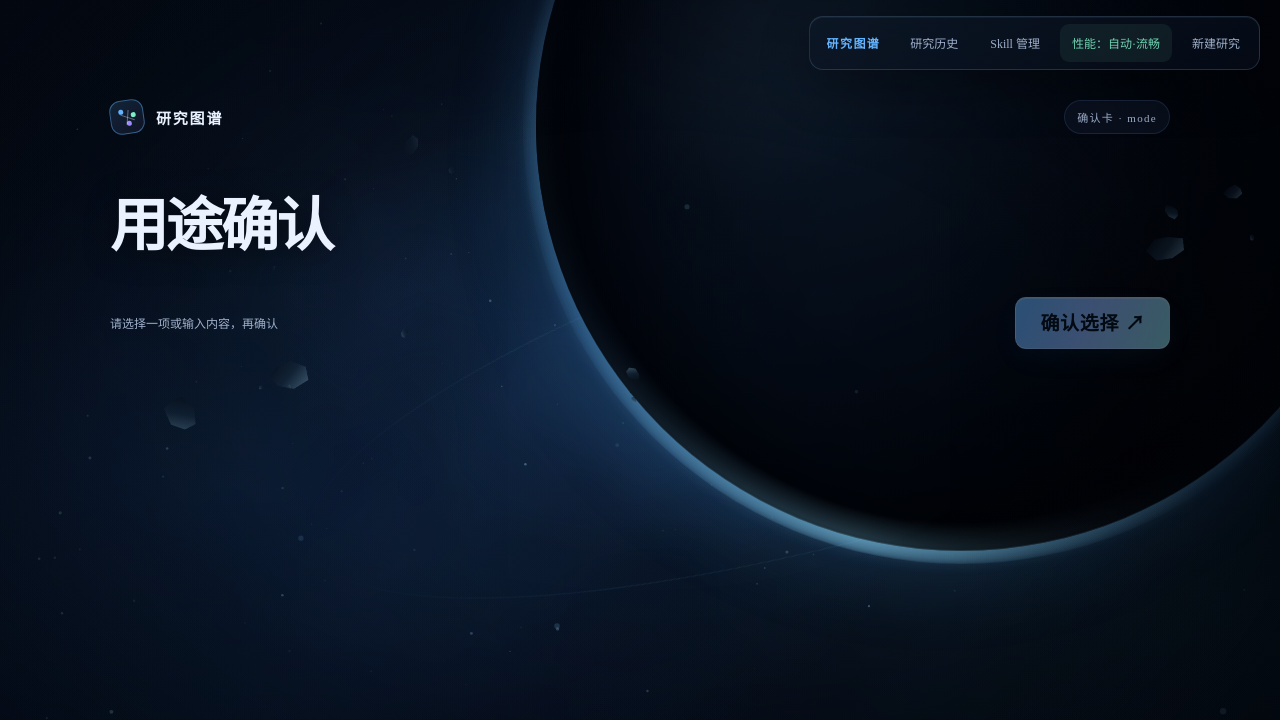
cycles the performance mode from auto to lite to full
Earlier steps of the test are not shown.
Click the button with aria-label "性能模式" at (1116, 43), box [1060,24,1172,62]
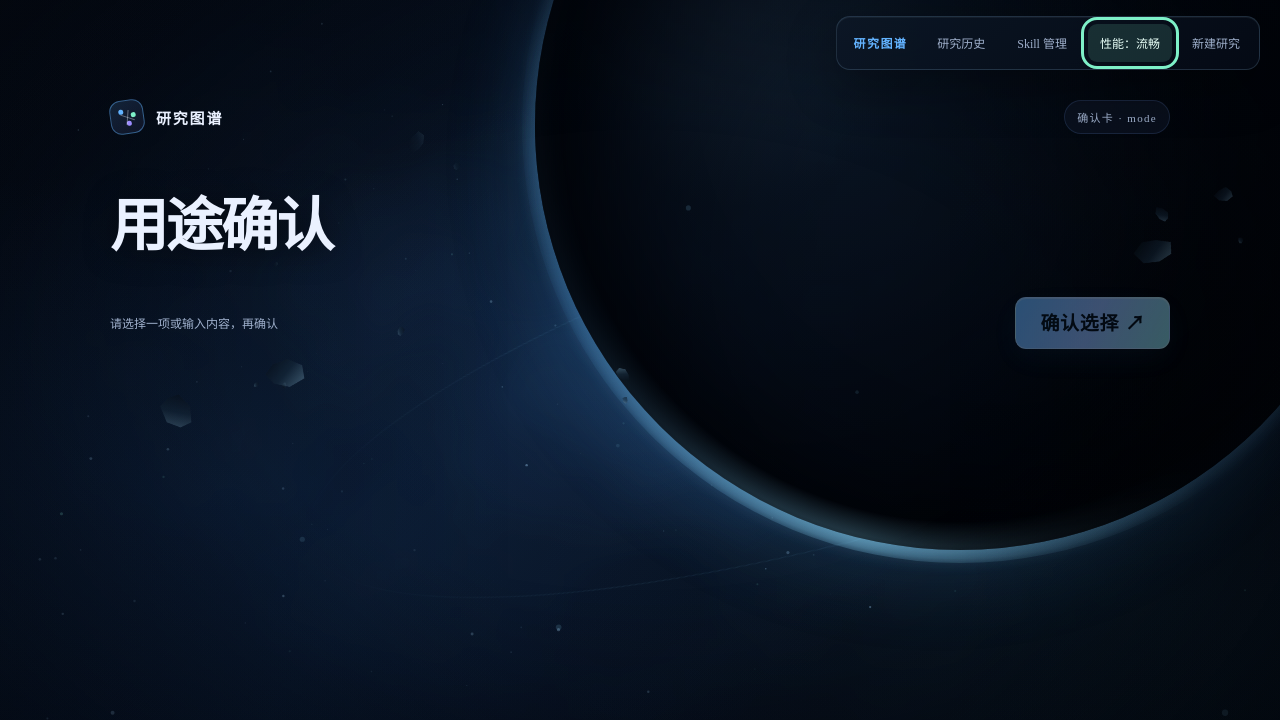
Check: the button with aria-label "性能模式" reads "性能：流畅"
Click the button with aria-label "性能模式" at (1130, 43), box [1088,24,1172,62]
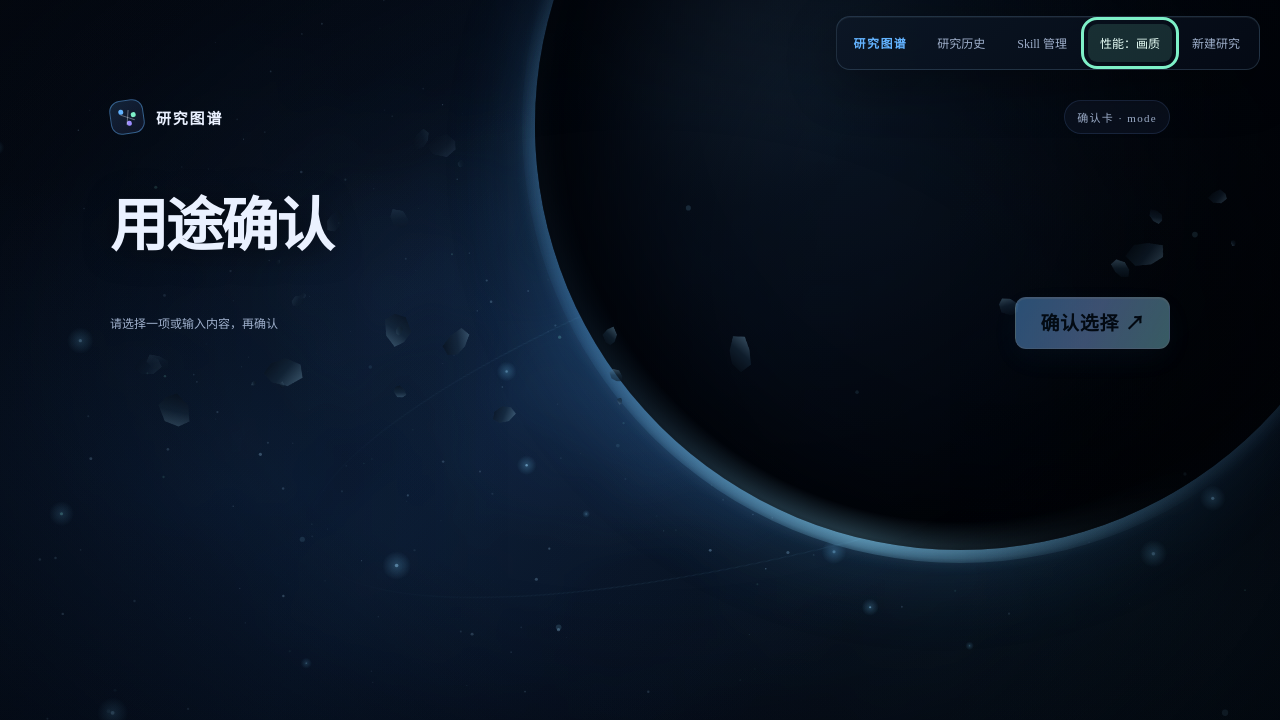
Check: the button with aria-label "性能模式" reads "性能：画质"
Click the button with aria-label "性能模式" at (1130, 43), box [1088,24,1172,62]
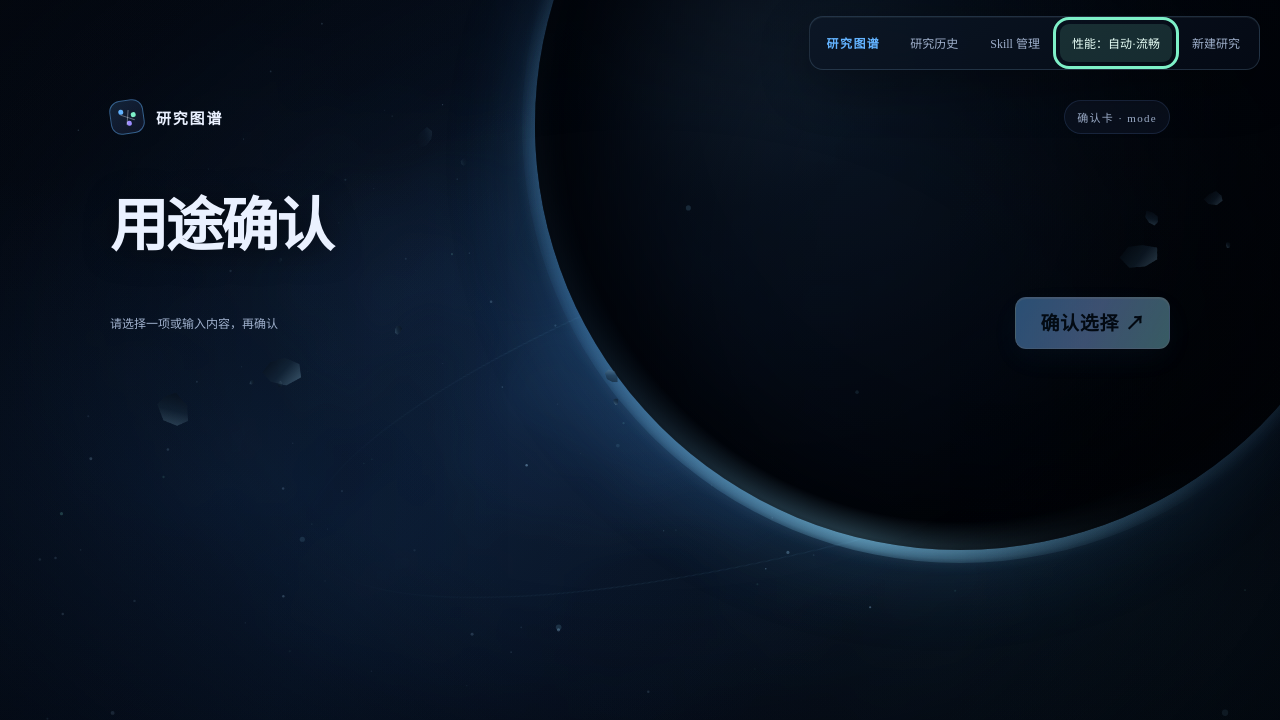
Check: the button with aria-label "性能模式" shows "性能：自动", box [1060,24,1172,62]
